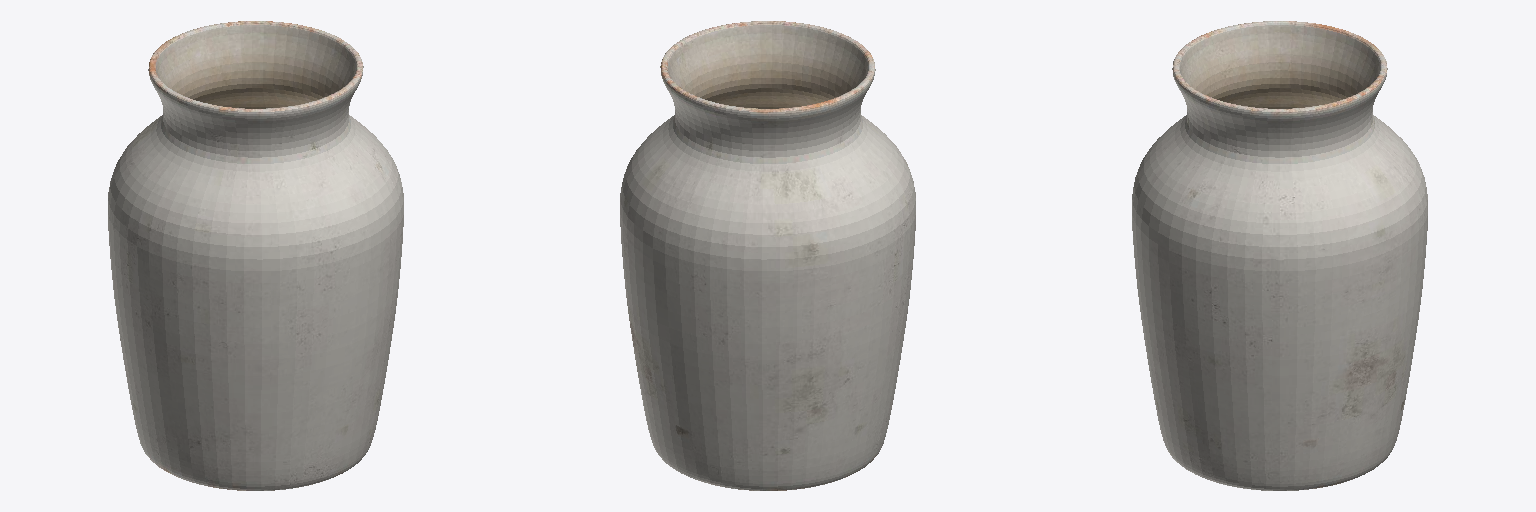
3 renders of one model, left to right at view 1: azimuth 30°, elevation 25°; view 2: azimuth 150°, elevation 25°; view 3: azimuth 270°, elevation 25°, orthographic.
Visible parts, largest first — view 1: ceramic_vase_02_Cylinder.003; view 2: ceramic_vase_02_Cylinder.003; view 3: ceramic_vase_02_Cylinder.003.
Boxes of the visible parts, box(x1,y1,x2,y2) form: ceramic_vase_02_Cylinder.003: box(108, 21, 403, 490); ceramic_vase_02_Cylinder.003: box(620, 21, 915, 490); ceramic_vase_02_Cylinder.003: box(1132, 21, 1427, 490).
Size of the model in its own units: 0.2184 by 0.3092 by 0.2184.
Materials: 1 (1 with a texture image).